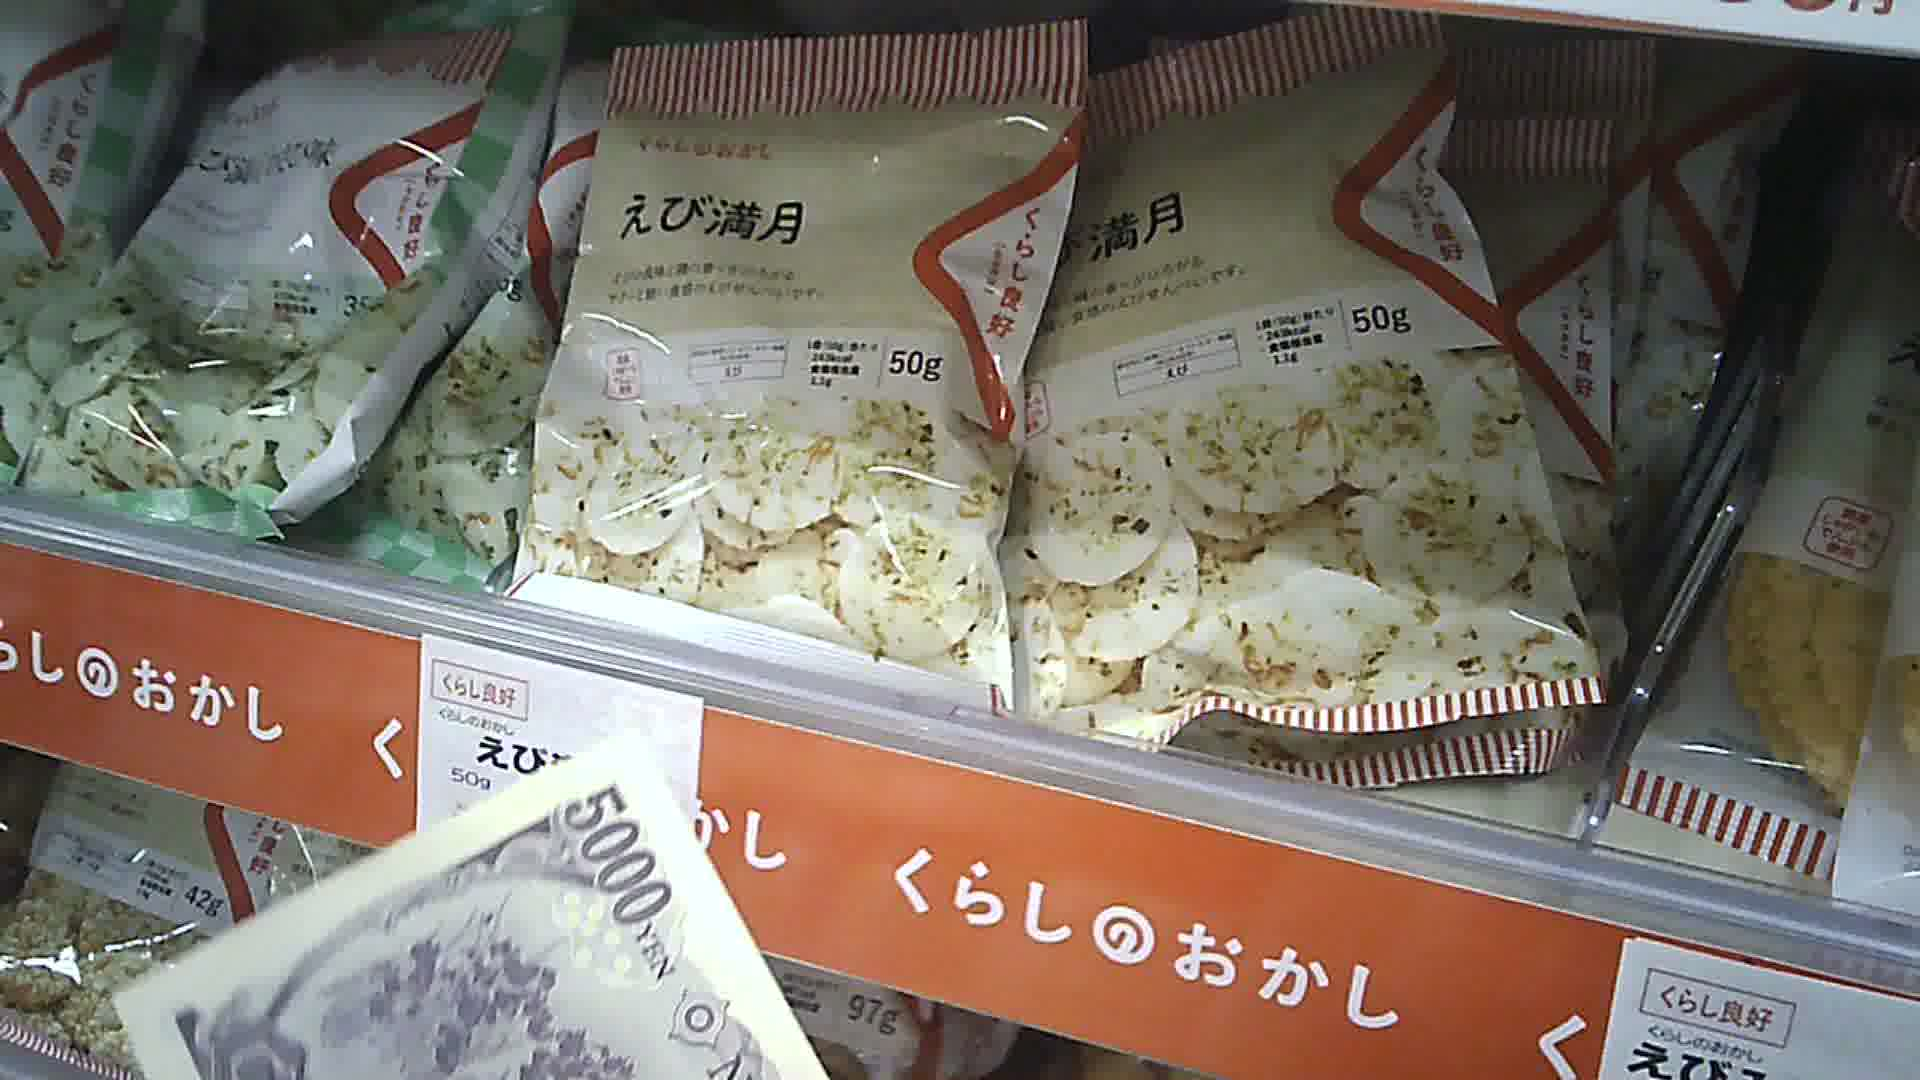5,000 Yen: (100, 727, 793, 1079)
